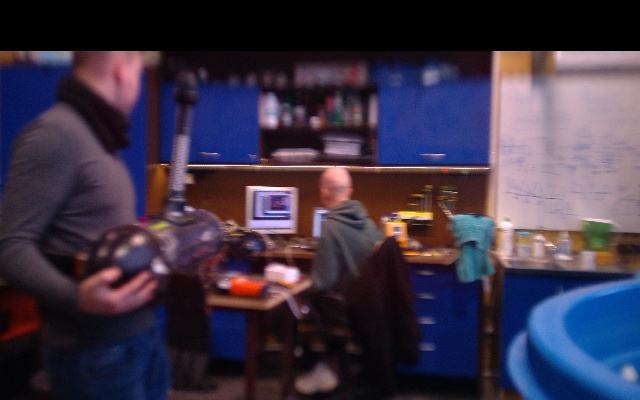black: (170, 129, 190, 199)
